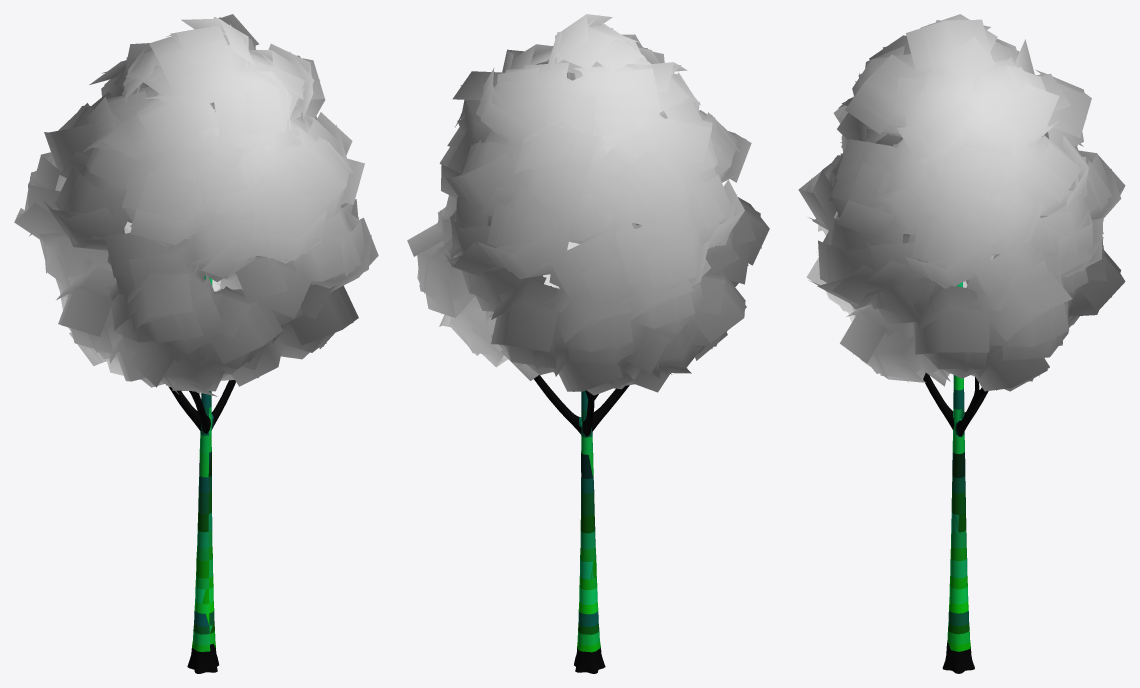
The model's file is SM_tree_chestnut_01.fbx.
3 renders of one model, left to right at view 1: azimuth 30°, elevation 25°; view 2: azimuth 150°, elevation 25°; view 3: azimuth 270°, elevation 25°, orthographic.
Visible parts, largest first — view 1: _0; view 2: _0; view 3: _0.
Part boxes in pixels (<box>): _0: <box>14,14,378,673</box>; _0: <box>407,14,769,673</box>; _0: <box>798,14,1125,673</box>.
Bounding box in the file's own units: 183 × 383 × 175.
